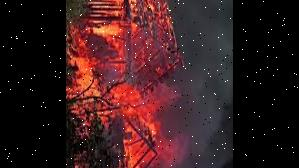fire: (67, 28, 118, 127)
